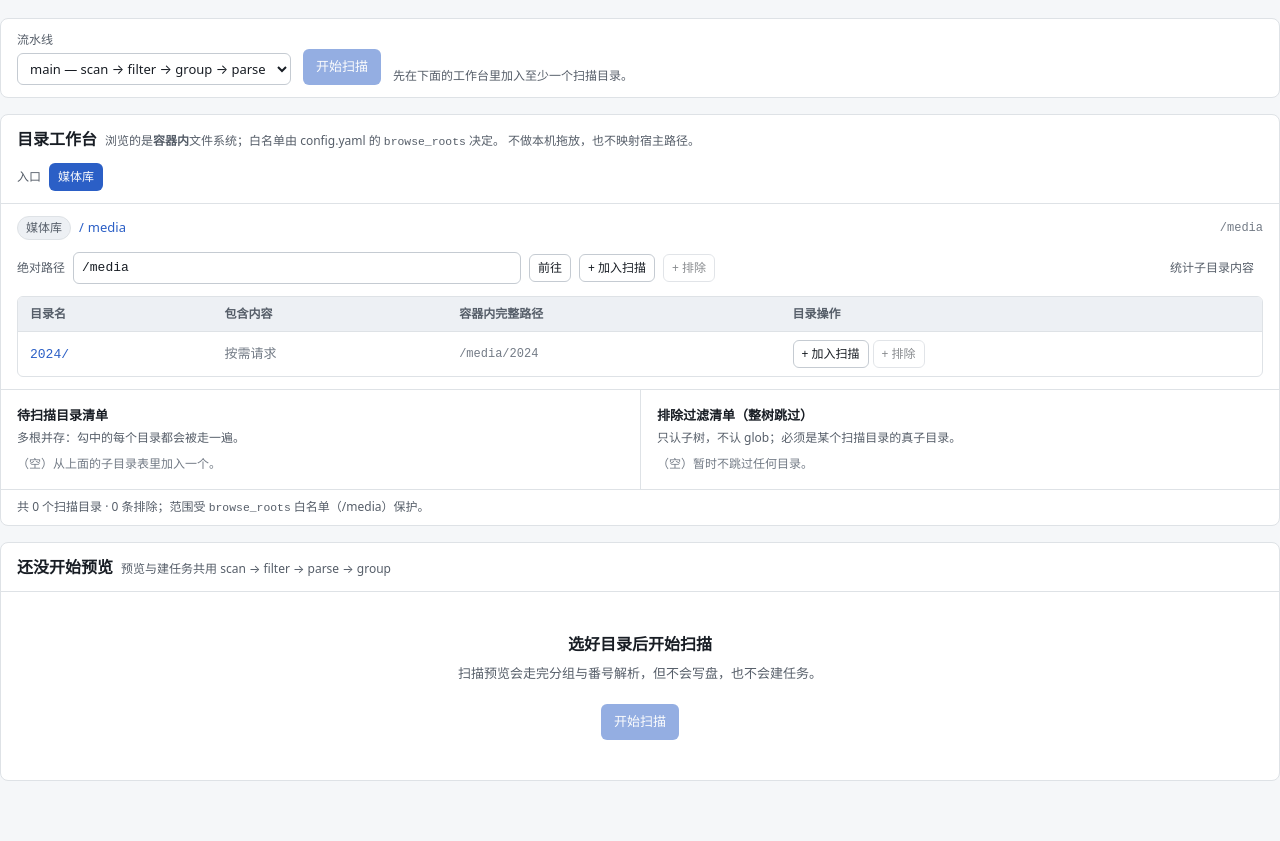
Scenario: ScanView › walks from the browse roots to a preview and creates a batch from the ticked groups
This screenshot has width=1280, height=841.
Expected: the button "媒体库" is shown, [49,163,103,191]
Click the button "+ 加入扫描" in the row of "按需请求" at (830, 354), box [792,340,868,368]
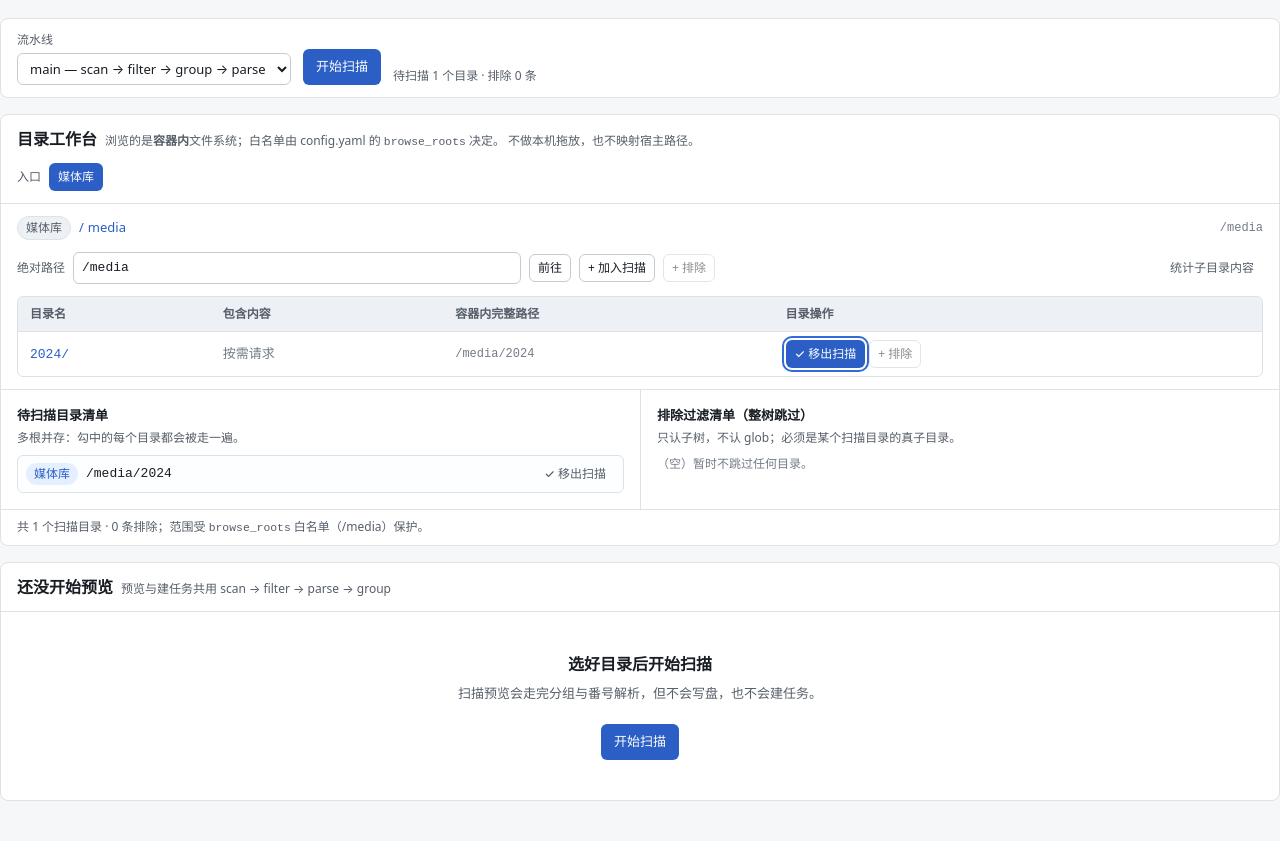
Click the button "开始扫描" in the row of "个目录 · 排除" at (342, 66), box [303,48,381,84]
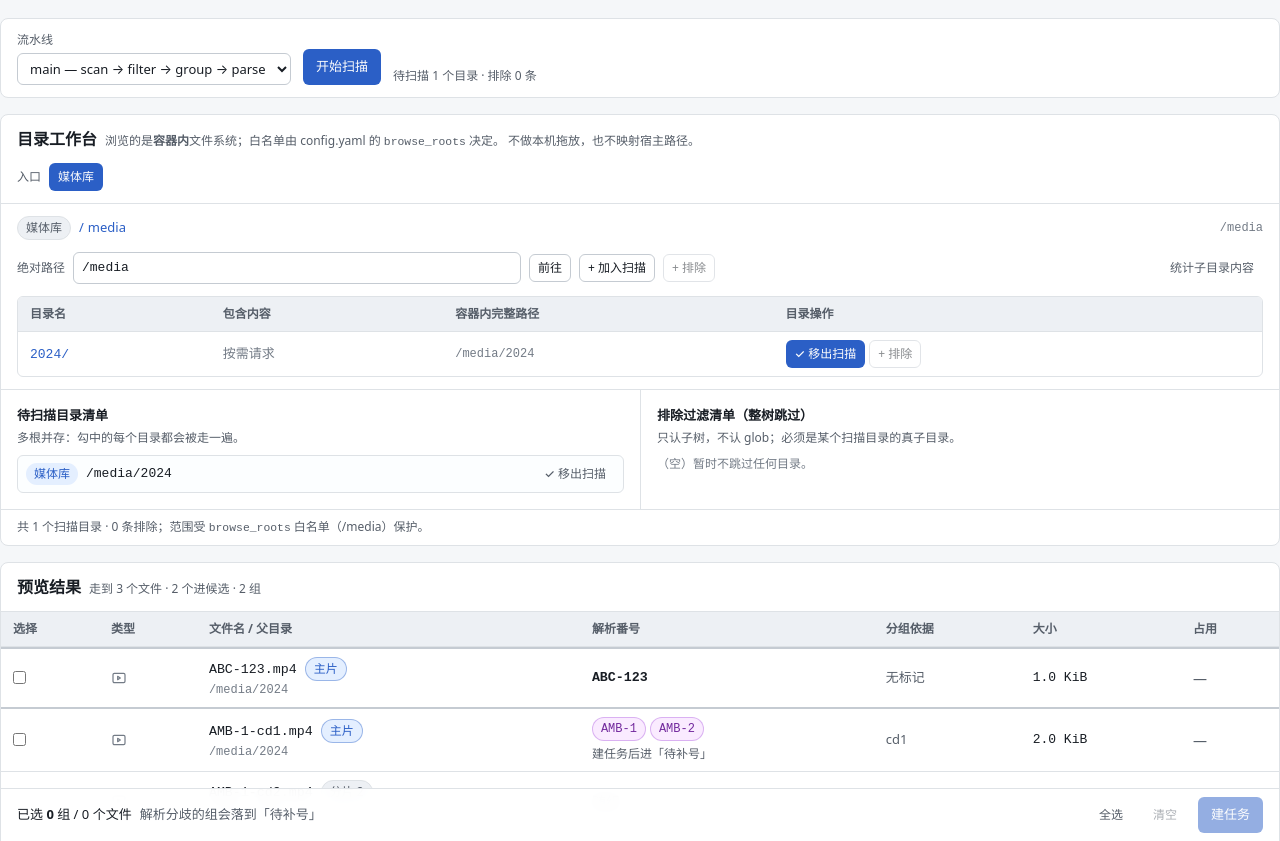
Expected: the text "AMB-1" is shown, [592,717,646,741]
Expected: the text "ABC-123" is shown, [592,670,648,685]
// Group selection is per group: ticking the checkbox counts both parts.
Click the checkbox named "选择分组 AMB-1.mp4（2 个文件）" at (20, 739), box [13,733,26,746]
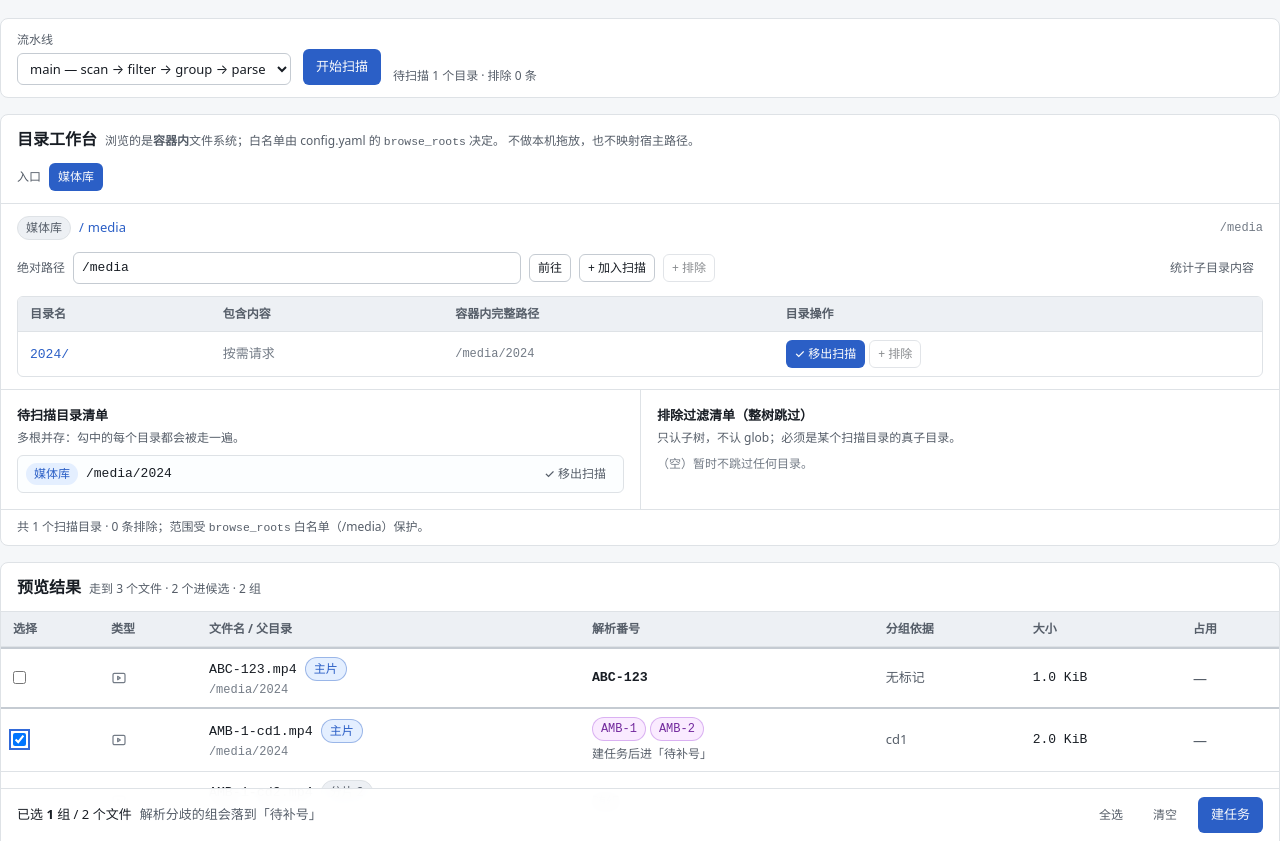
Expected: the text "已选" shows "已选 1 组 / 2 个文件", [17,805,322,825]
Click the button "建任务" at (1230, 815), box [1198,797,1263,833]
(page scrolled)
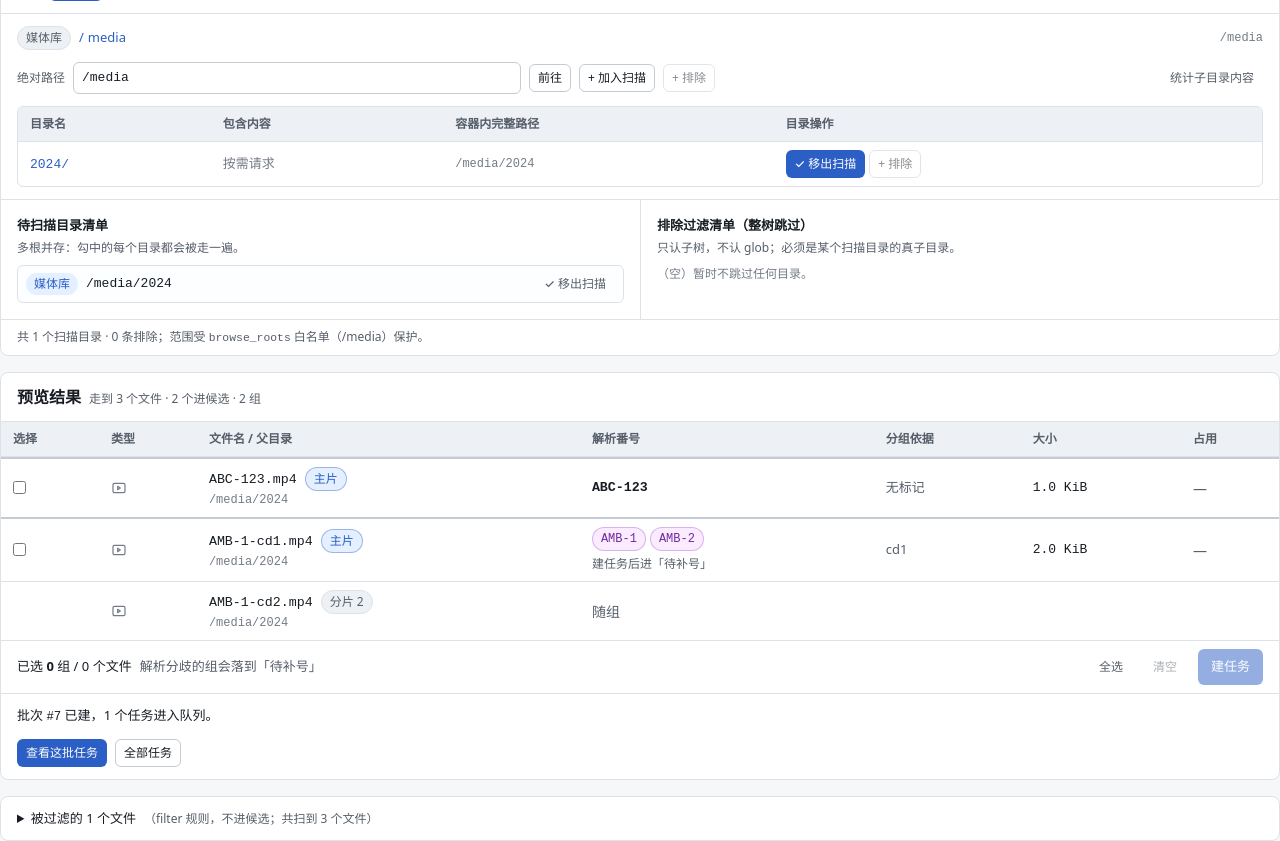
Expected: the text "#7" is shown, [46,710,61,724]
Expected: the button "查看这批任务" is shown, [17,739,107,767]
